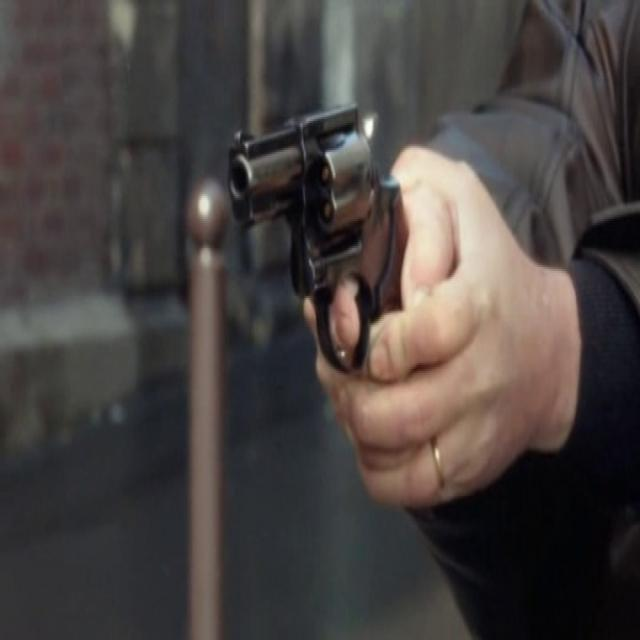weapons: (217, 86, 450, 404)
